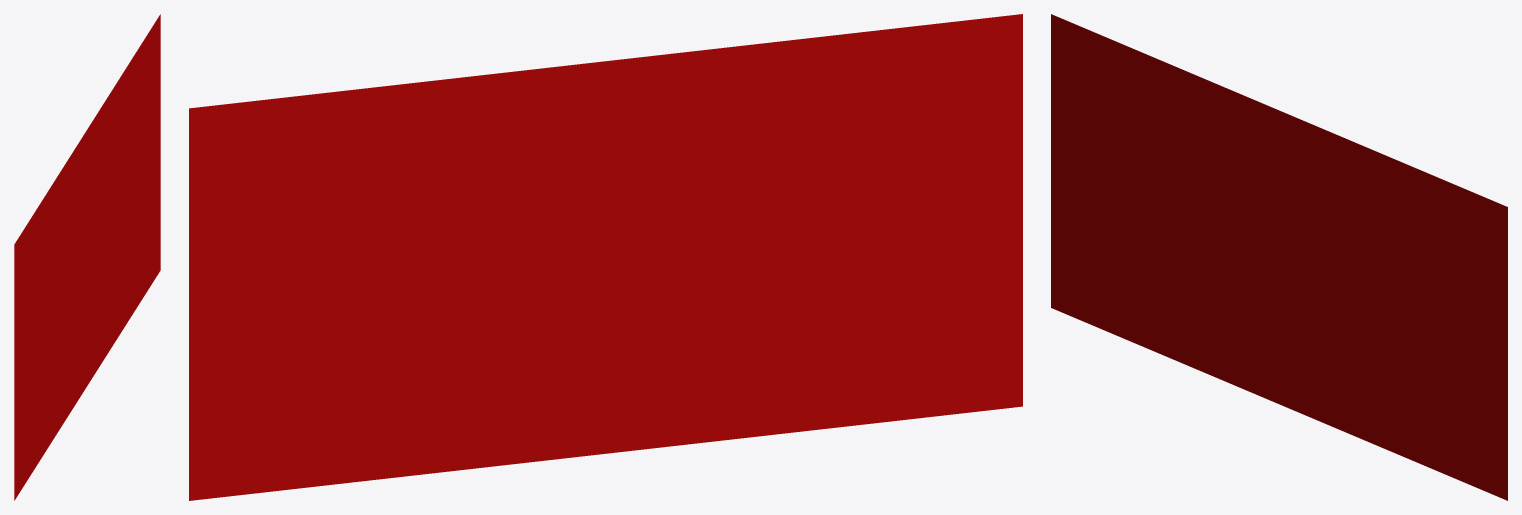
Rendered from Diagonal_TopWall.glb.
3 renders of one model, left to right at view 1: azimuth 30°, elevation 25°; view 2: azimuth 150°, elevation 25°; view 3: azimuth 270°, elevation 25°, orthographic. The views are drawn at different scales.
Visible parts, largest first — view 1: Diagonal_TopWall; view 2: Diagonal_TopWall; view 3: Diagonal_TopWall.
Boxes of the visible parts, box(x1,y1,x2,y2) form: Diagonal_TopWall: box(14, 14, 160, 500); Diagonal_TopWall: box(189, 14, 1022, 500); Diagonal_TopWall: box(1051, 14, 1507, 500).
Bounding box in the file's own units: 0.465 × 0.33 × 0.465.
